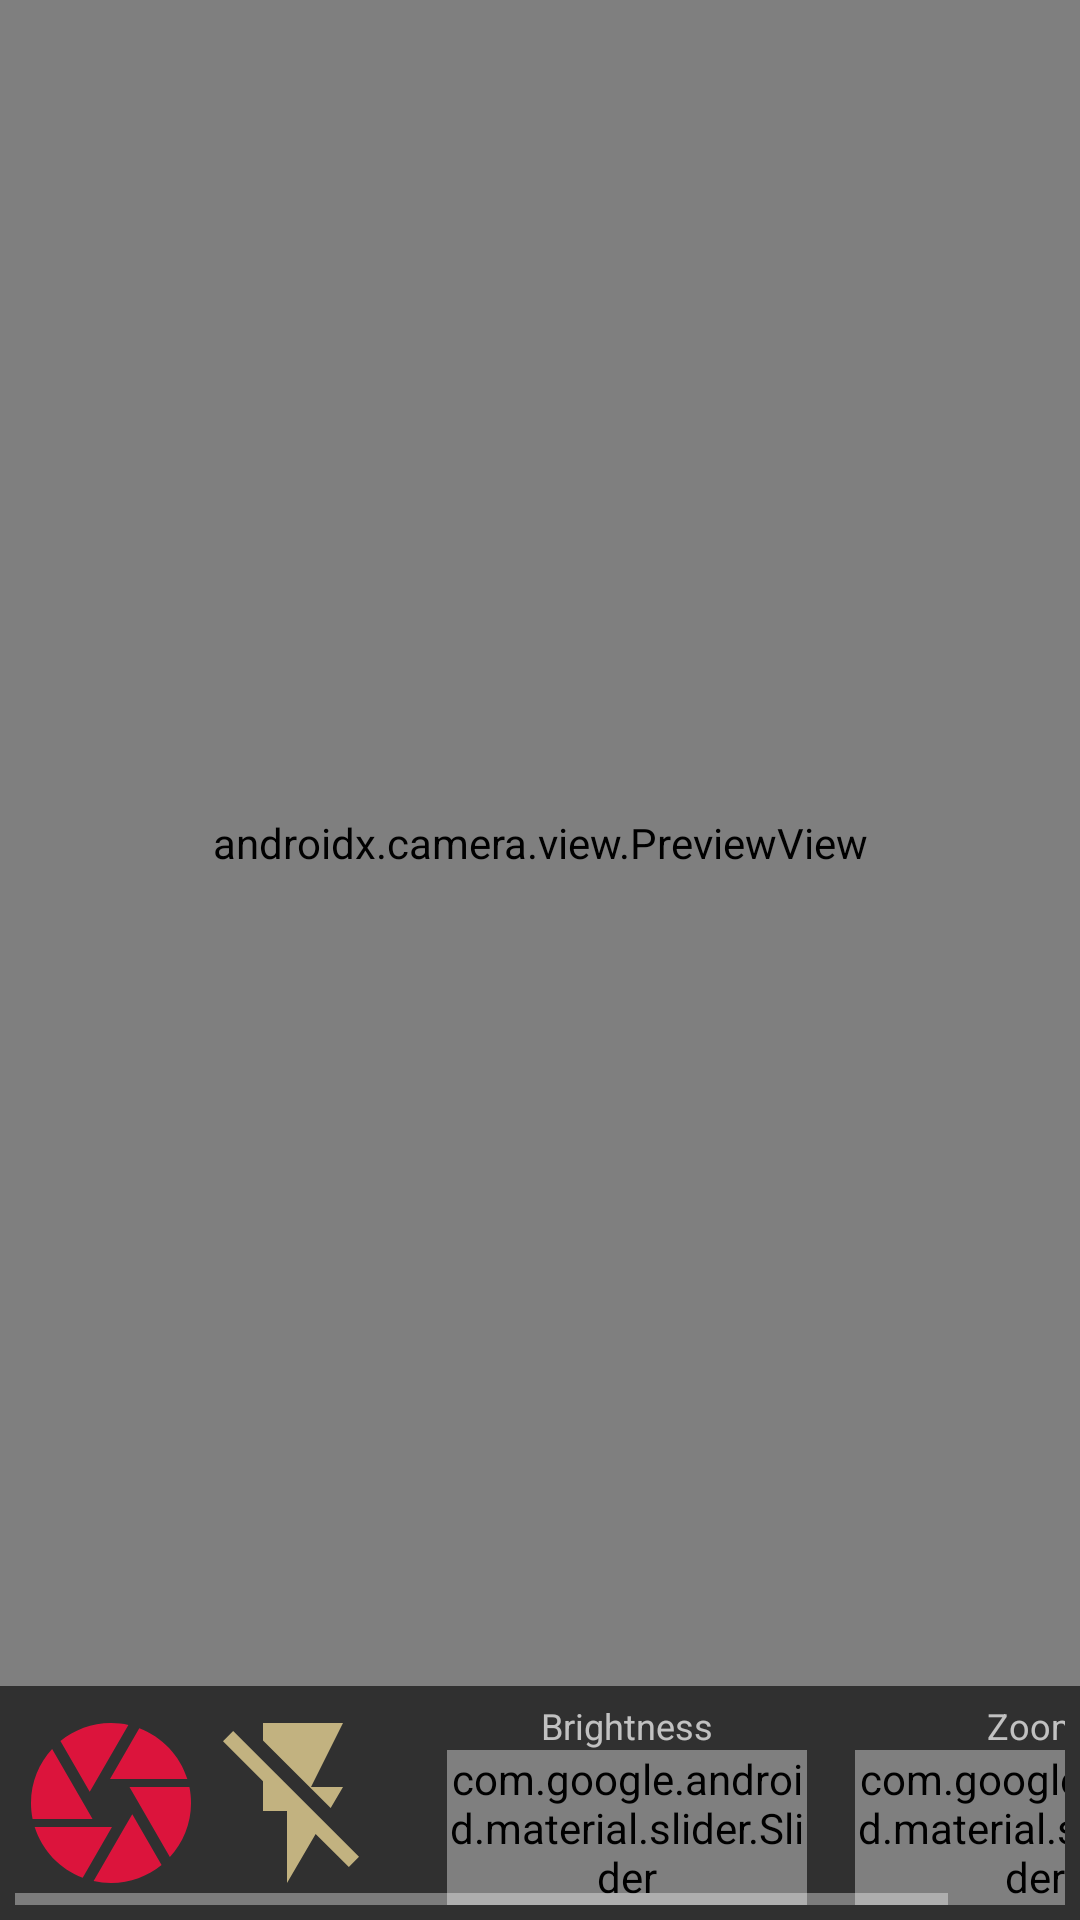

Icons on this 1080×1920 Android screen, each with the point to tap as point (x, y):
Camera Capture Control: point (111, 1803)
Flash Control: point (291, 1803)
